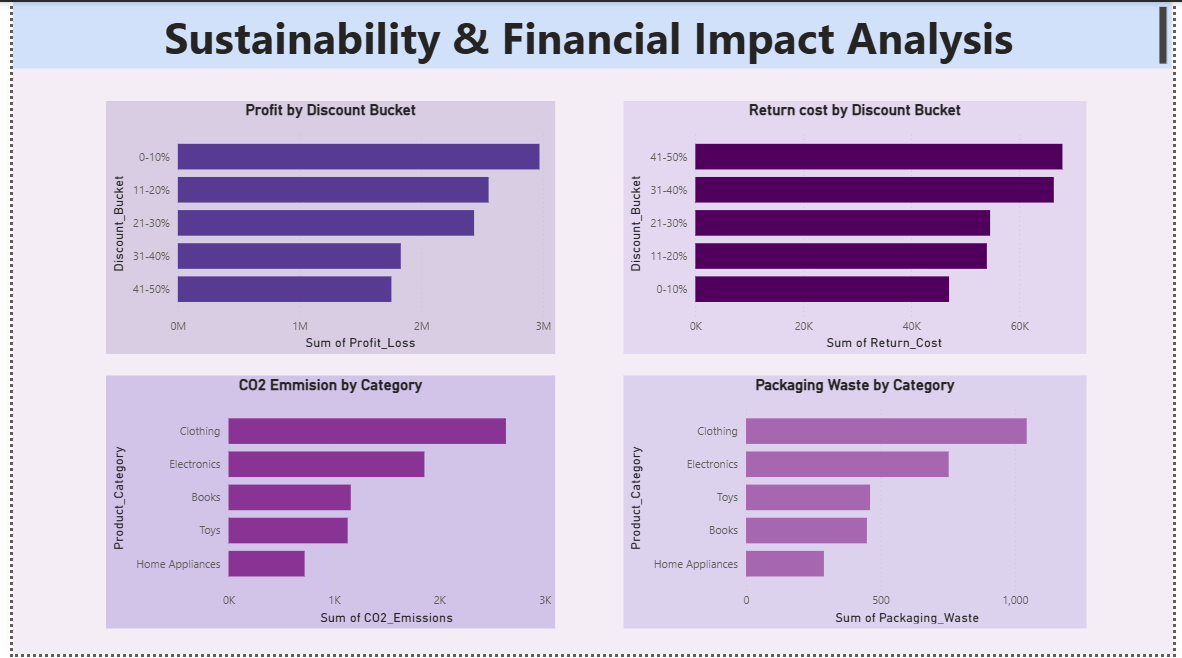

The page's visual inventory and layout, read from the dashboard file:
{"tool":"powerbi","page":{"name":"Sustainability & Financial Impact Analysis","canvas":[1280,720],"ordinal":2},"visuals":[{"type":"textbox","box":[0,0,1279.2,73.6],"z":0},{"type":"clusteredBarChart","title":"Profit  by Discount Bucket","fields":{"Y":["Sum(Return_Data (2).Profit_Loss)"],"Category":["Return_Data (2).Discount_Bucket"]},"box":[101.9,109.4,496.2,279.2],"z":1000},{"type":"clusteredBarChart","title":"Return cost by Discount Bucket","fields":{"Category":["Return_Data (2).Discount_Bucket"],"Y":["Sum(Return_Data (2).Return_Cost)"]},"box":[673.6,109.4,511.3,279.2],"z":2000},{"type":"clusteredBarChart","title":"CO2 Emmision by Category","fields":{"Category":["Return_Data (2).Product_Category"],"Y":["Sum(Return_Data (2).CO2_Emissions)"]},"box":[101.9,413.2,496.2,279.2],"z":3000},{"type":"clusteredBarChart","title":"Packaging Waste by Category","fields":{"Category":["Return_Data (2).Product_Category"],"Y":["Sum(Return_Data (2).Packaging_Waste)"]},"box":[673.6,413.2,511.3,279.2],"z":4000}]}

Visuals, with their boxes in screenshot pixels (x1, y1, x2, y2), scaled from the page's 1280x720 canvas onto the 1182x658 screenshot:
textbox: detection(0, 0, 1181, 67)
"Profit  by Discount Bucket" clusteredBarChart: detection(94, 100, 552, 355)
"Return cost by Discount Bucket" clusteredBarChart: detection(622, 100, 1094, 355)
"CO2 Emmision by Category" clusteredBarChart: detection(94, 378, 552, 633)
"Packaging Waste by Category" clusteredBarChart: detection(622, 378, 1094, 633)
